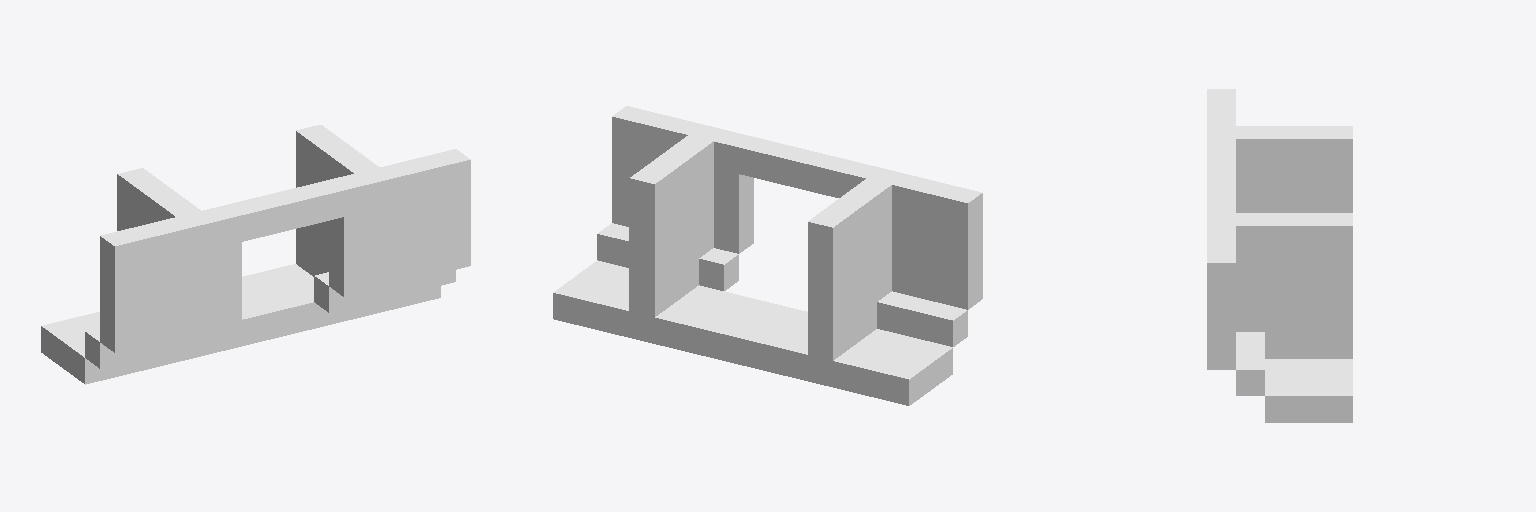
File: environ-10-rail3.obj
The picture shows the model from 3 angles: view 1: azimuth 30°, elevation 25°; view 2: azimuth 150°, elevation 25°; view 3: azimuth 270°, elevation 25°; orthographic projection.
Visible parts, largest first — view 1: rail3; view 2: rail3; view 3: rail3.
Part boxes in pixels (bbox=[...]): rail3: bbox=[41, 125, 470, 384]; rail3: bbox=[553, 106, 982, 405]; rail3: bbox=[1207, 89, 1352, 422].
Bounding box in the file's own units: 1.4 × 0.6 × 0.5.